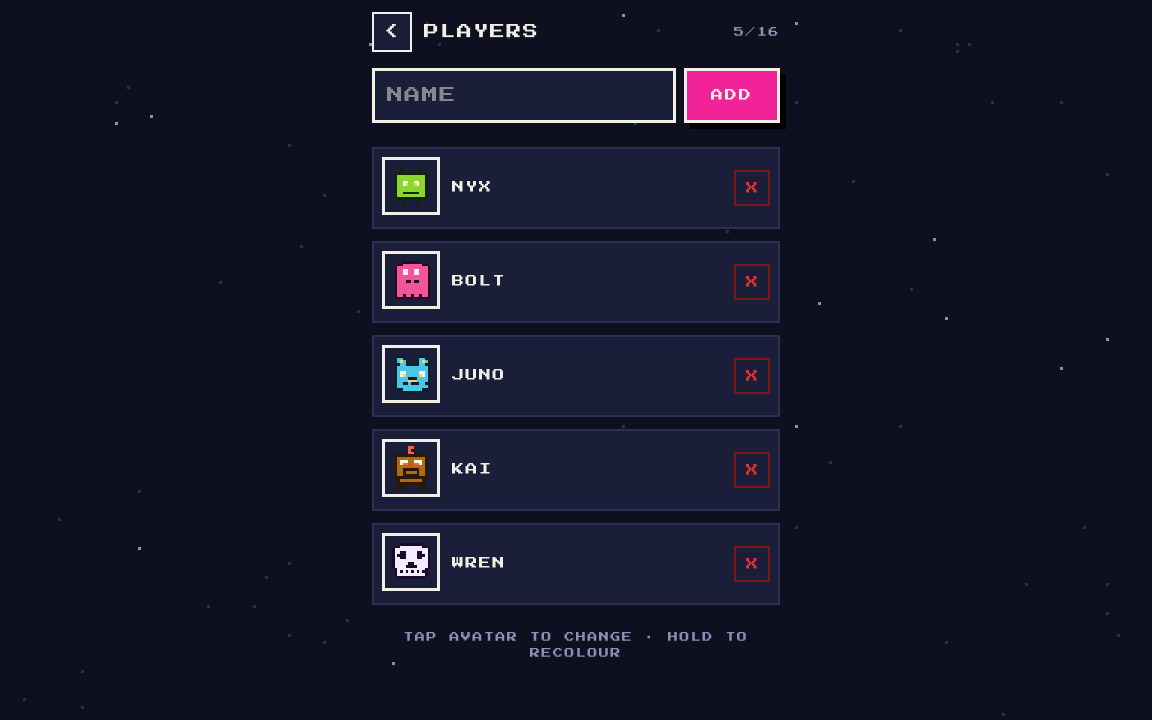
Scenario: screen rendering › player setup lists everyone and can add a name
Check: the text "Nyx" is shown, box [452, 181, 492, 193]
Check: the text "Bolt" is shown, box [452, 275, 506, 287]
In the field with placeholder "NAME": point(524, 95) [372, 68, 676, 123], type "Pip"
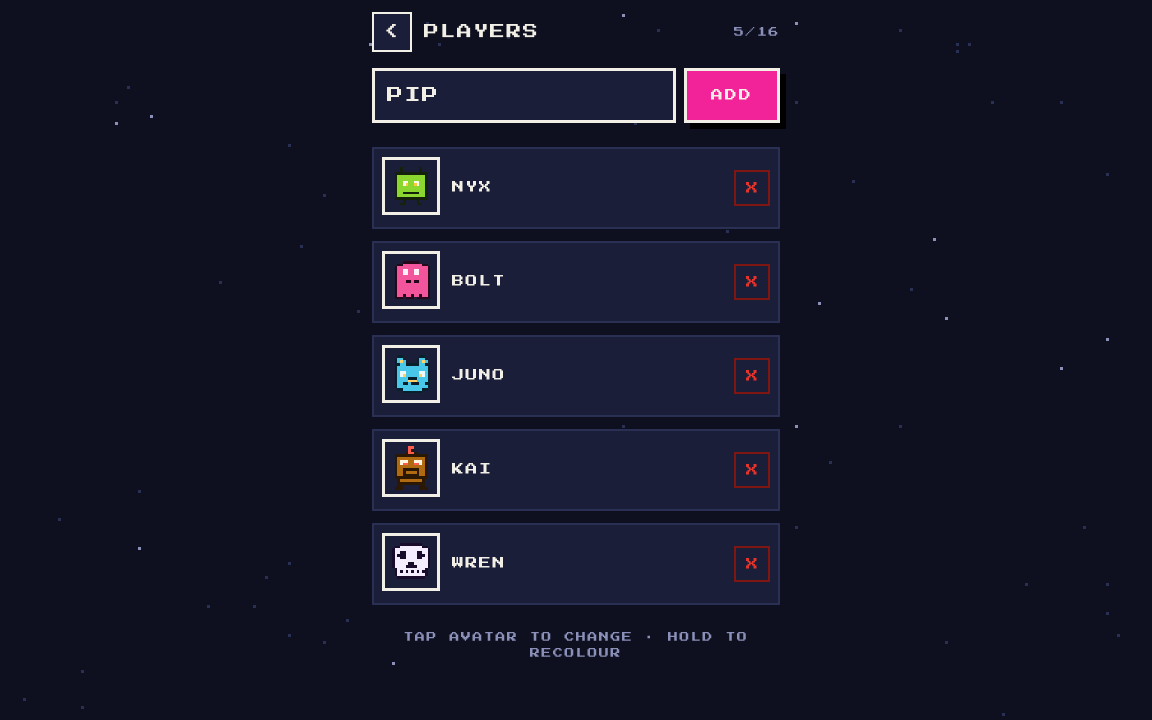
Click the button "Add": point(732, 95) [684, 68, 780, 123]
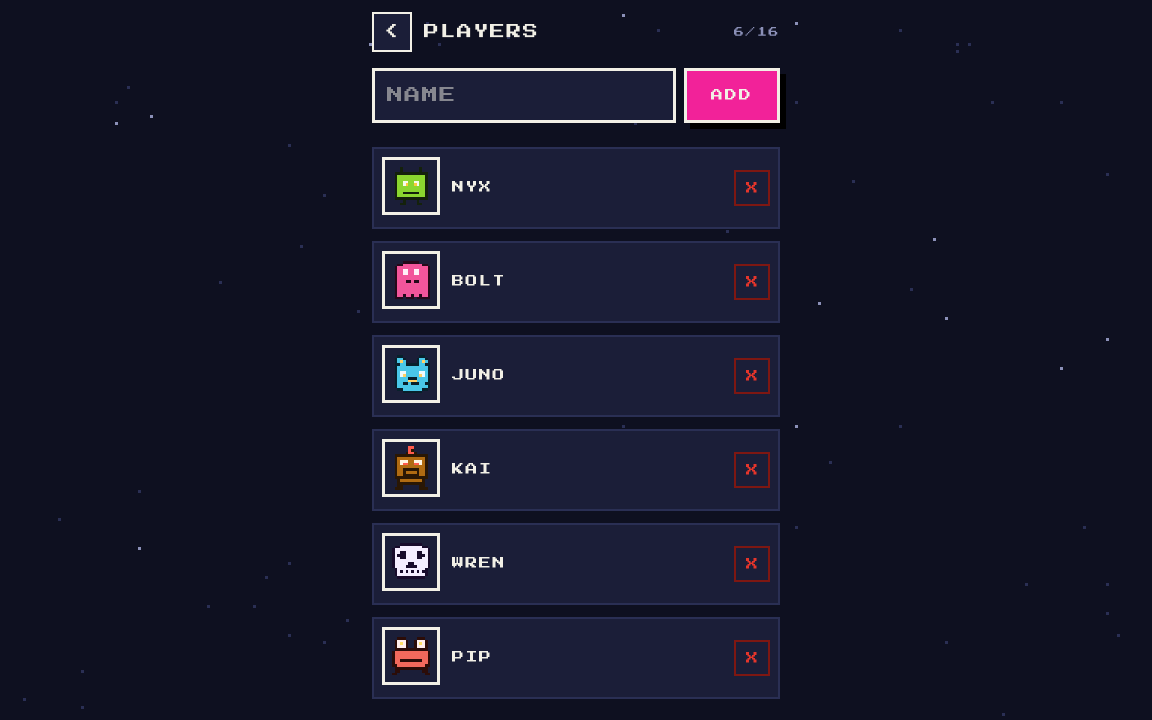
Check: the text "Pip" is shown, box [452, 651, 492, 663]
